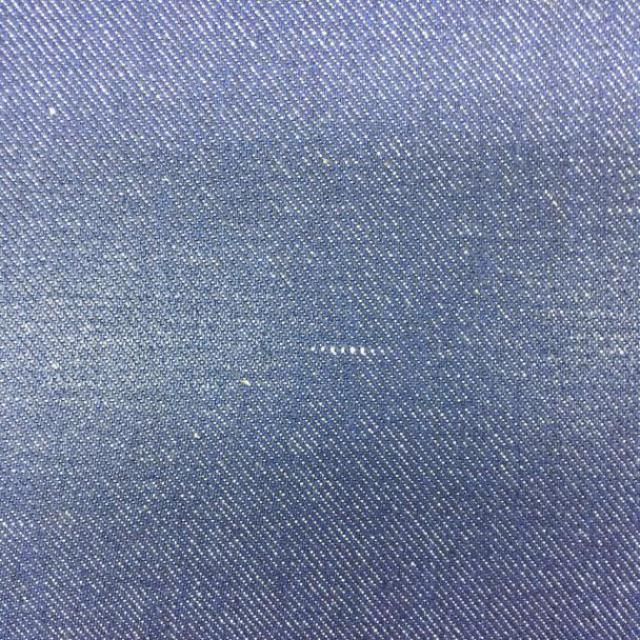Knot: (311, 345, 386, 357)
